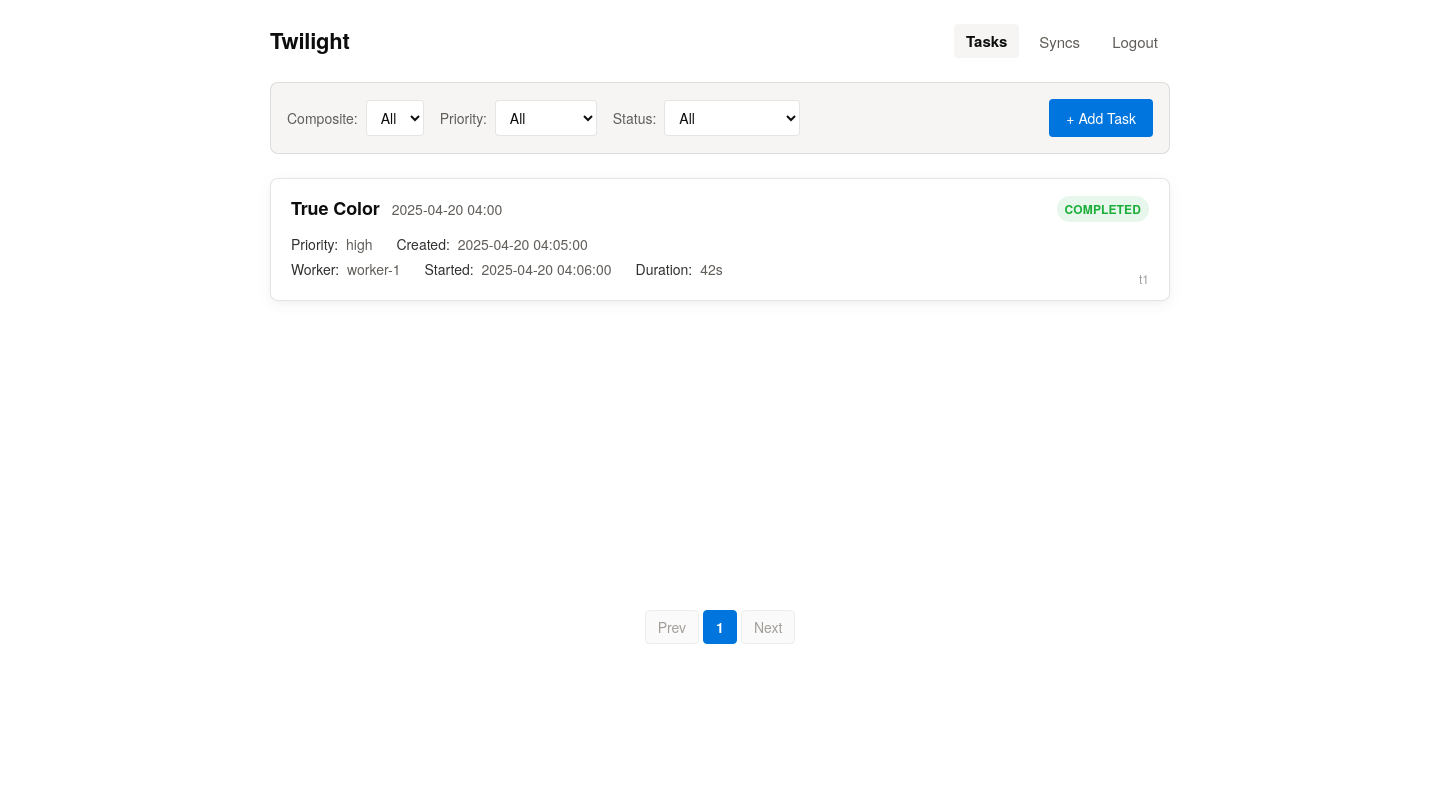
Scenario: Dashboard › renders task details and opens the profile modal
expect the text "True Color" is shown: met, box [291,195,380,222]
expect the element with class "data-card" shows "Priority: high": met, box [270,178,1170,301]
Step 1. Click the text with class "status-badge" → {"x": 1103, "y": 208}, box [1057,196,1149,222]
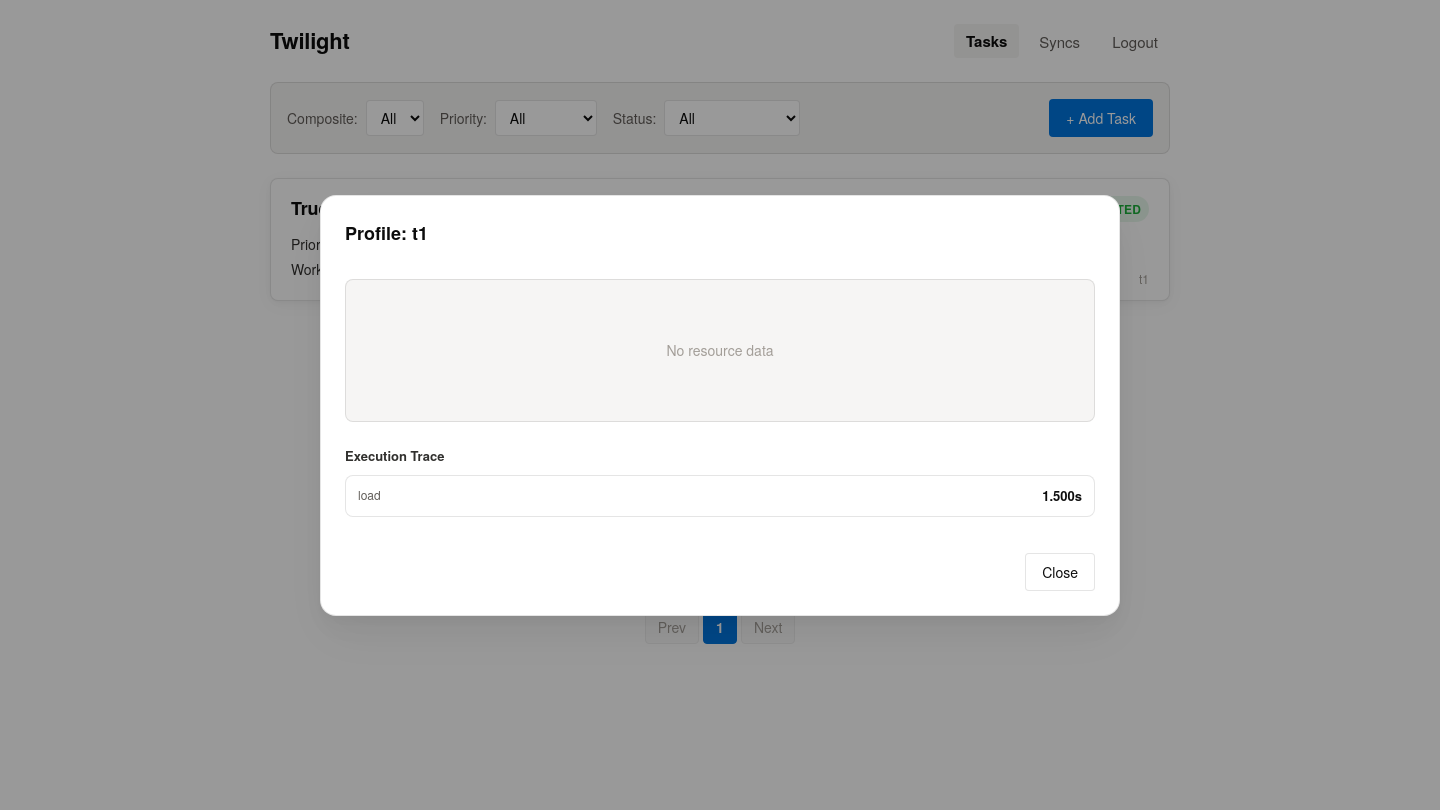
expect the text "Profile: t1" is shown: met, box [345,220,428,246]
expect the text "No resource data" is shown: met, box [345,278,1095,422]
expect the text "load" is shown: met, box [358,486,381,506]
